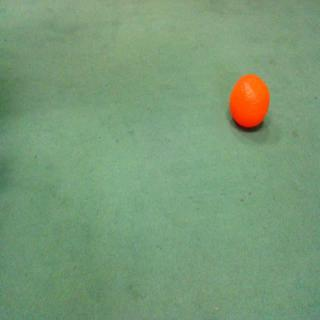orange: (226, 64, 281, 140)
